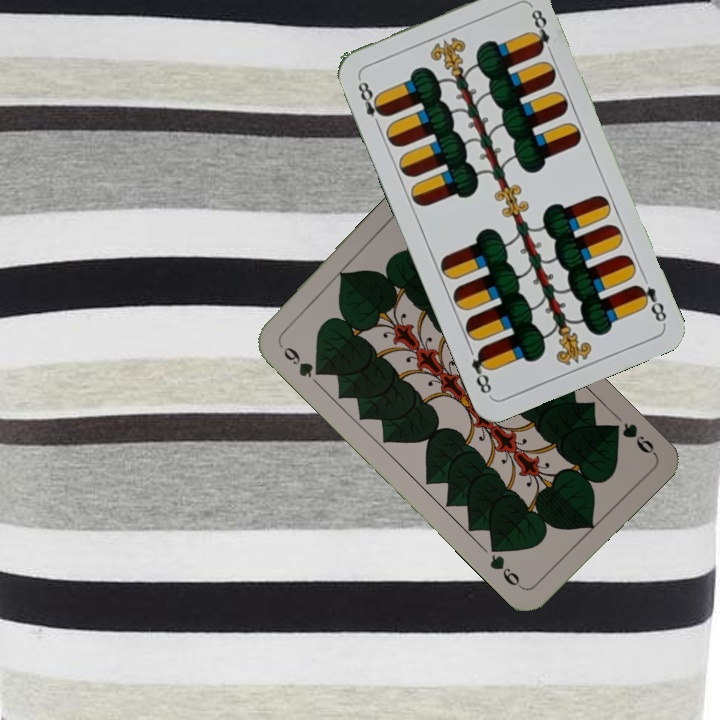E8: (353, 73, 389, 130), (631, 280, 669, 325)
G9: (274, 338, 326, 381), (604, 418, 658, 457)
